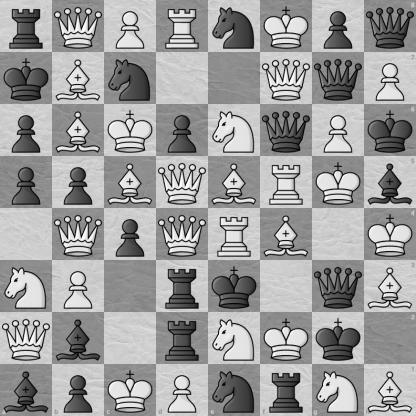B: (364, 260, 416, 312), (364, 364, 416, 416), (53, 53, 104, 104), (53, 105, 104, 156), (105, 157, 156, 208), (209, 157, 260, 208), (261, 209, 312, 260)
K: (104, 364, 156, 416), (364, 209, 416, 260), (105, 105, 156, 156), (261, 1, 312, 52), (261, 313, 312, 364), (313, 157, 364, 208)
N: (312, 364, 364, 416), (1, 261, 52, 312), (209, 105, 260, 156), (209, 313, 260, 364)
P: (156, 364, 209, 416), (364, 52, 416, 104), (53, 261, 104, 312), (105, 1, 156, 52), (313, 105, 364, 156)
Q: (1, 313, 52, 364), (53, 1, 104, 52), (53, 209, 104, 260), (157, 157, 208, 208), (157, 209, 208, 260), (261, 53, 312, 104)
R: (157, 1, 208, 52), (209, 209, 260, 260), (261, 157, 312, 208)
b: (364, 156, 416, 209), (0, 364, 52, 416), (53, 313, 104, 364)
board: (0, 0, 415, 415)
k: (364, 104, 416, 156), (1, 53, 52, 104), (209, 261, 260, 312), (313, 313, 364, 364)
n: (209, 364, 260, 416), (105, 53, 156, 104), (209, 1, 260, 52)
p: (52, 364, 104, 416), (1, 105, 52, 156), (1, 157, 52, 208), (53, 157, 104, 208), (105, 209, 156, 260), (157, 105, 208, 156), (313, 1, 364, 52)
q: (364, 0, 416, 52), (261, 105, 312, 156), (313, 53, 364, 104), (313, 261, 364, 312)
r: (260, 364, 312, 416), (1, 1, 52, 52), (157, 261, 208, 312), (157, 313, 208, 364)
